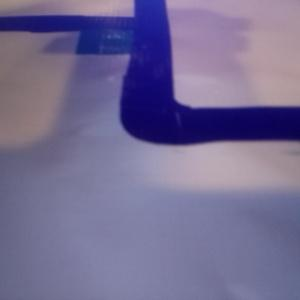bottom_left: (75, 17, 167, 54)
